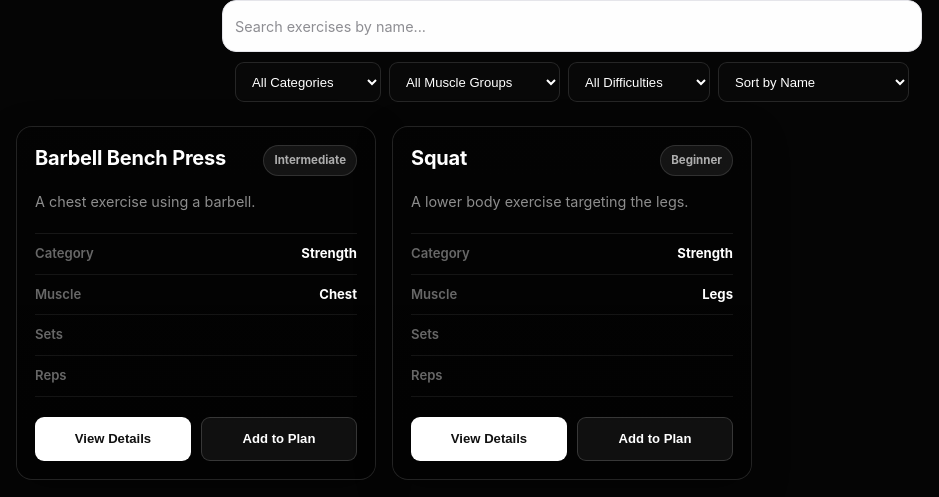
Test: ExerciseList › filters exercises by search
The image size is (939, 497).
Type "Squat" into the field with placeholder "Search exercises by name..." at (572, 26), box [223, 18, 921, 34]
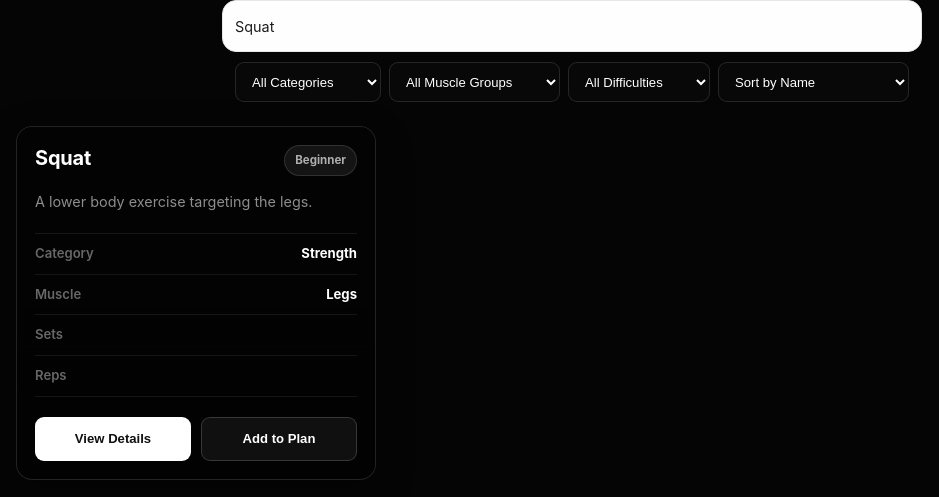
Expected: the heading "Squat" is shown, [35, 145, 91, 171]
Expected: the heading "Barbell Bench Press" is gone
